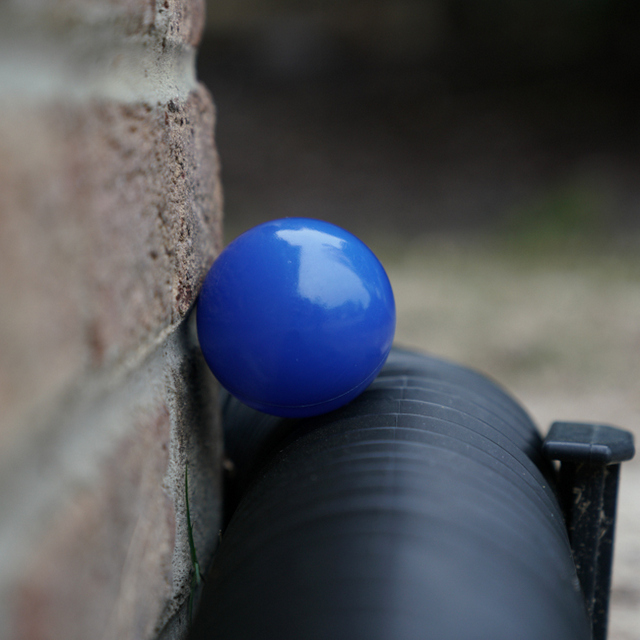Ball: (197, 221, 391, 415)
